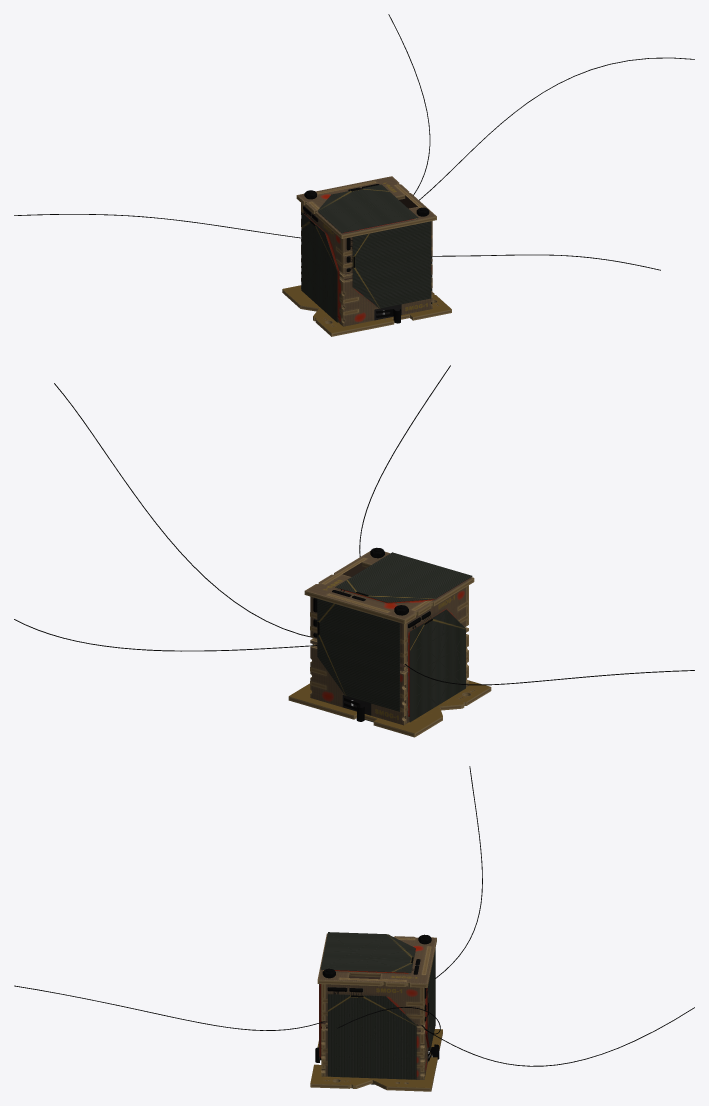
File: smog_1.glb
3 views of the same model, one above another, from view 1: azimuth 30°, elevation 25°; view 2: azimuth 150°, elevation 25°; view 3: azimuth 270°, elevation 25° (orthographic). The views are drawn at different scales.
Size of the model in its own units: 140 by 40.51 by 127.
Materials: 4 (4 with a texture image).
